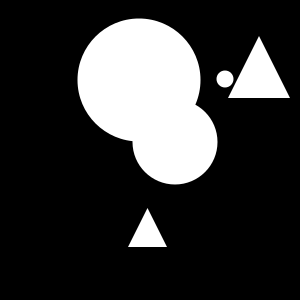rectangle: (77, 19, 200, 142), (132, 100, 218, 184), (216, 70, 234, 87)
triangle: (228, 36, 290, 98), (128, 208, 167, 247)
